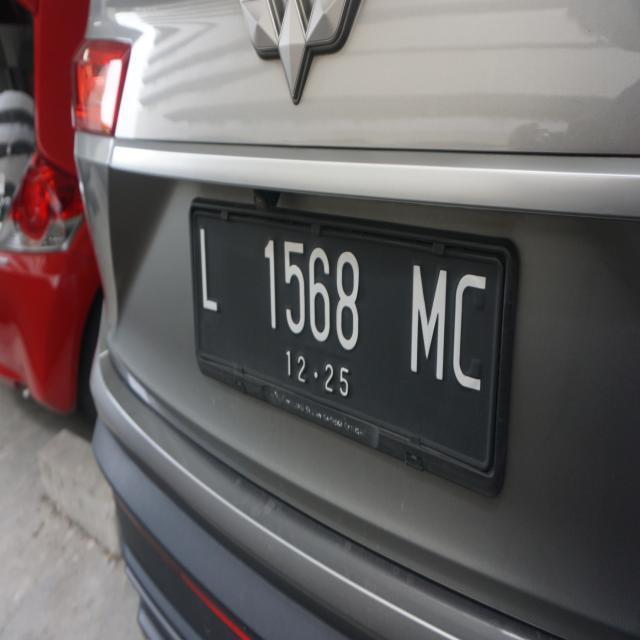1: (256, 228, 284, 337)
5: (279, 229, 308, 337)
6: (306, 236, 336, 348)
8: (332, 235, 360, 363)
C: (444, 244, 490, 408)
L: (190, 222, 227, 322)
M: (401, 241, 449, 385)
